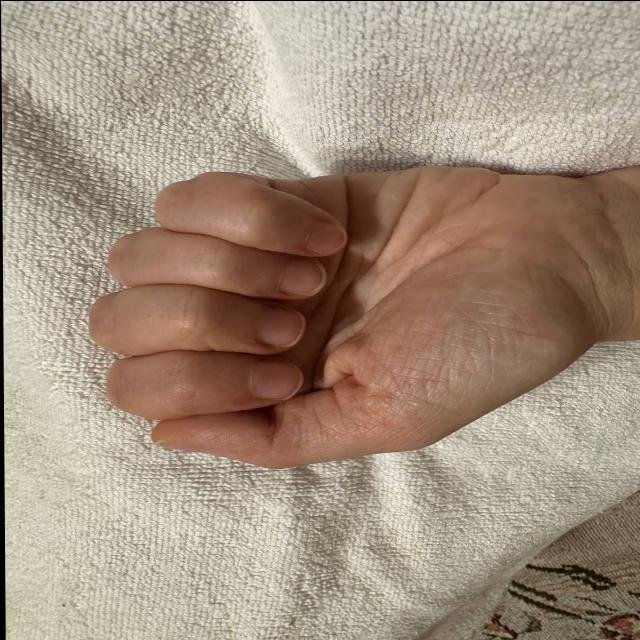a: (79, 120, 572, 547)
